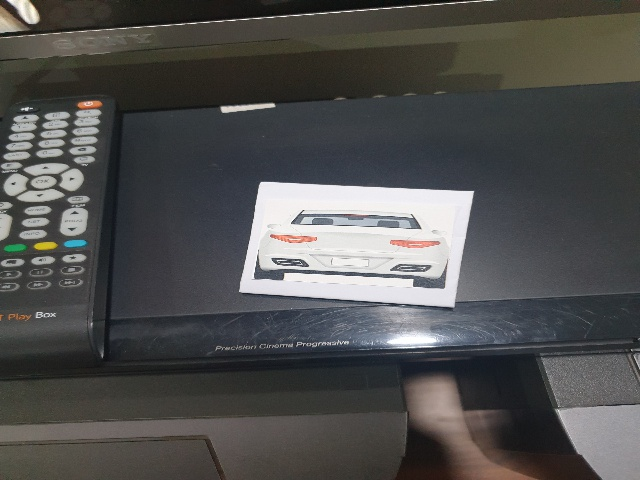Car: (259, 205, 454, 295)
